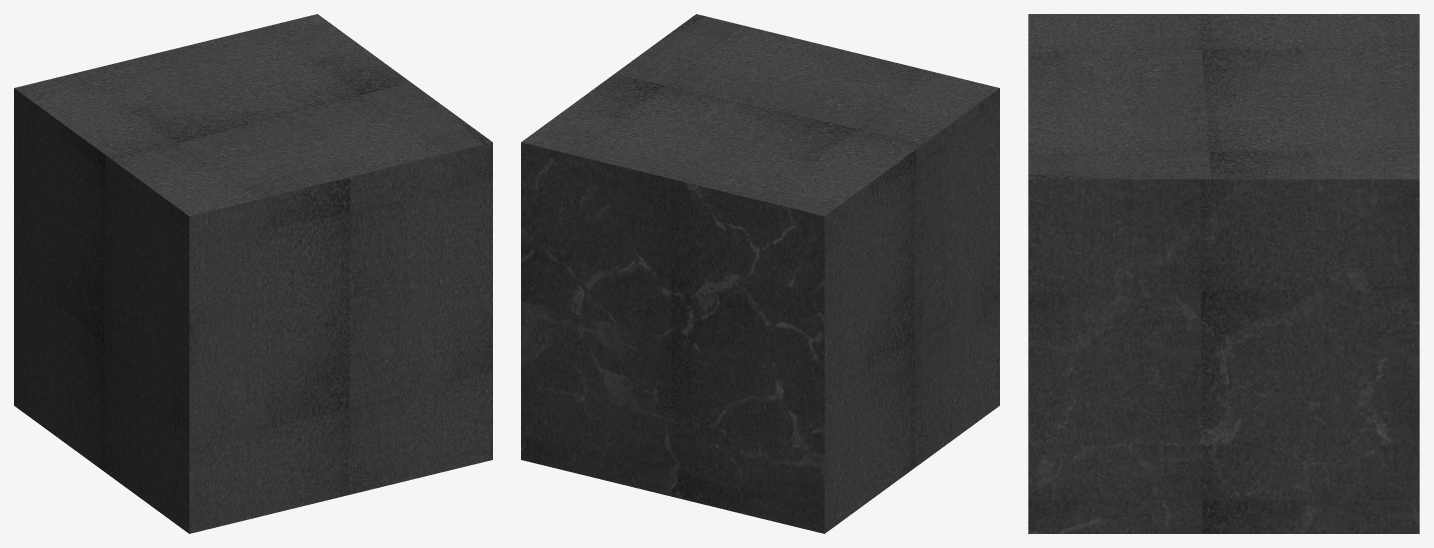
File: street.glb
3 renders of one model, left to right at view 1: azimuth 30°, elevation 25°; view 2: azimuth 150°, elevation 25°; view 3: azimuth 270°, elevation 25°, orthographic. The views are drawn at different scales.
Visible parts, largest first — view 1: Block_Grass; view 2: Block_Grass; view 3: Block_Grass.
Boxes of the visible parts, left/top/right/bottom form: Block_Grass: left=14, top=14, right=492, bottom=533; Block_Grass: left=521, top=14, right=999, bottom=533; Block_Grass: left=1028, top=14, right=1419, bottom=533.
Bounding box in the file's own units: 2 × 2 × 2.
Materials: 1 (1 with a texture image).
